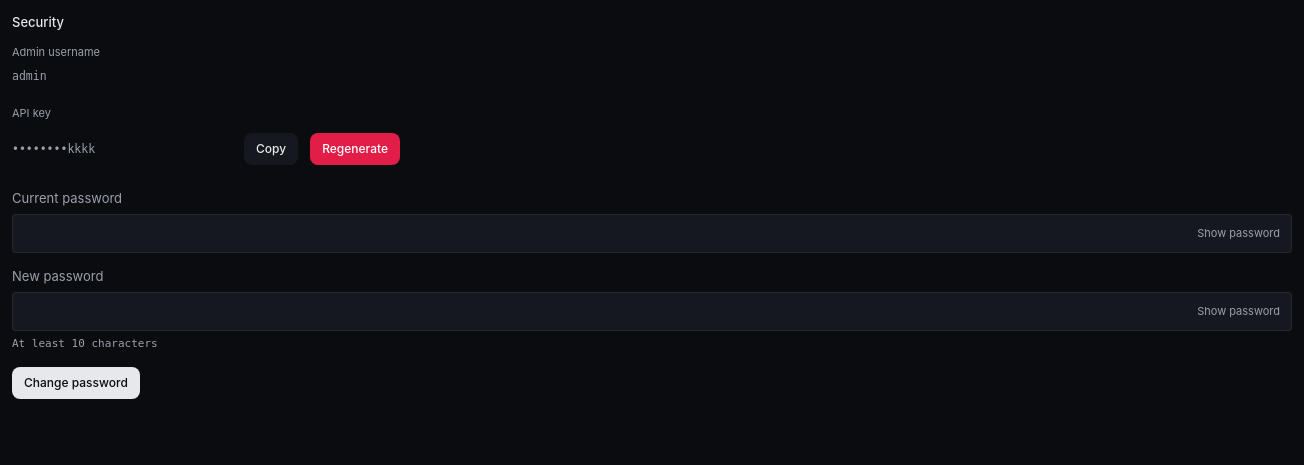
Test: SecuritySection（鉴权 A3 Task 13） › 改密表单：新旧密码提交 → POST change-password；400 错误行内展示
Check: the text "admin" is shown, box [12,69,47,83]
In the password field labelled "Current password": {"x": 652, "y": 234} [12,214,1292,253], type "oldpass1234"
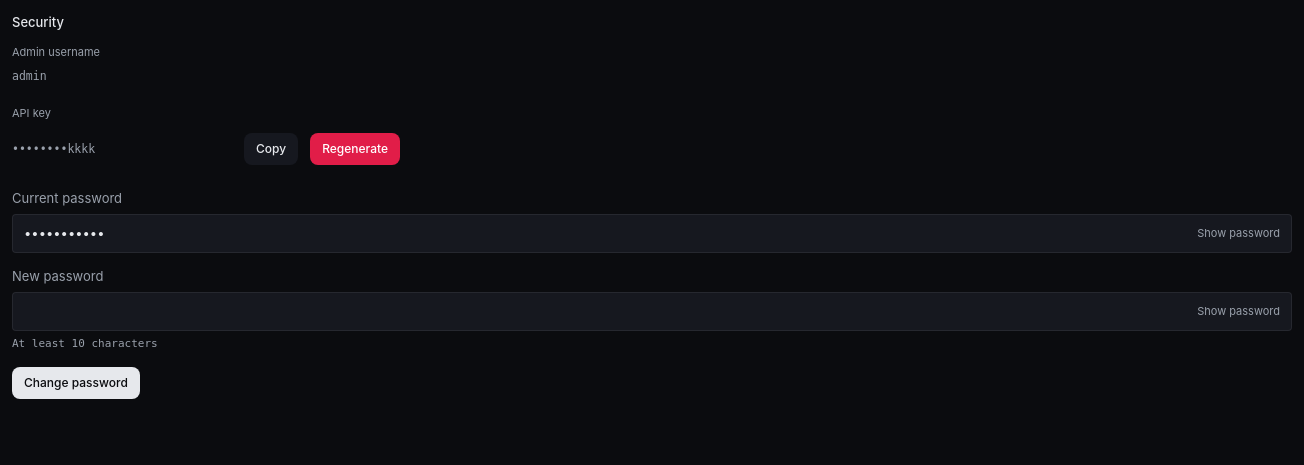
In the password field labelled "New password": {"x": 652, "y": 312} [12,292,1292,331], type "newpass8888"
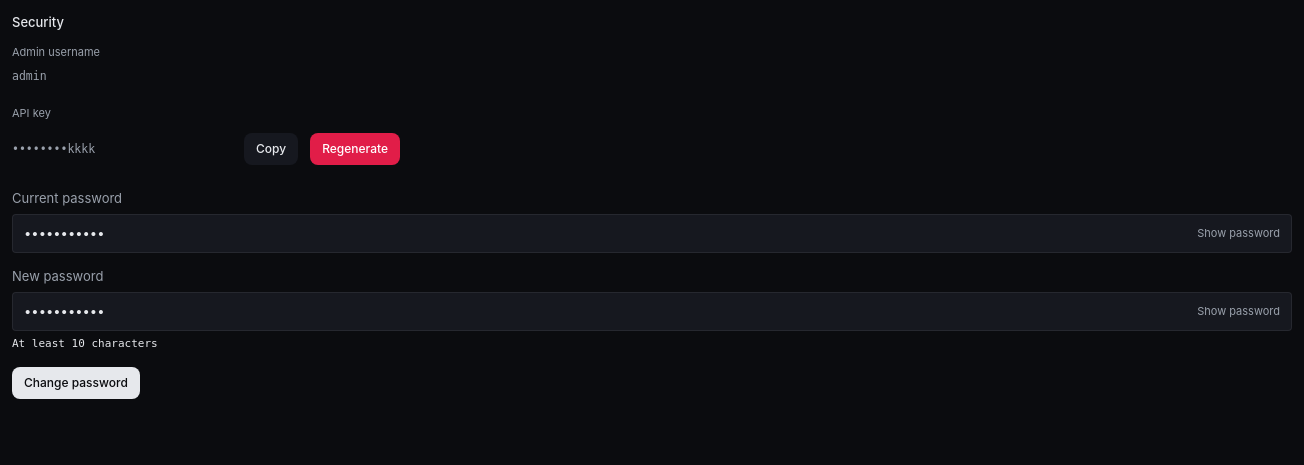
Click the button "Change password": {"x": 76, "y": 383} [12,367,140,399]
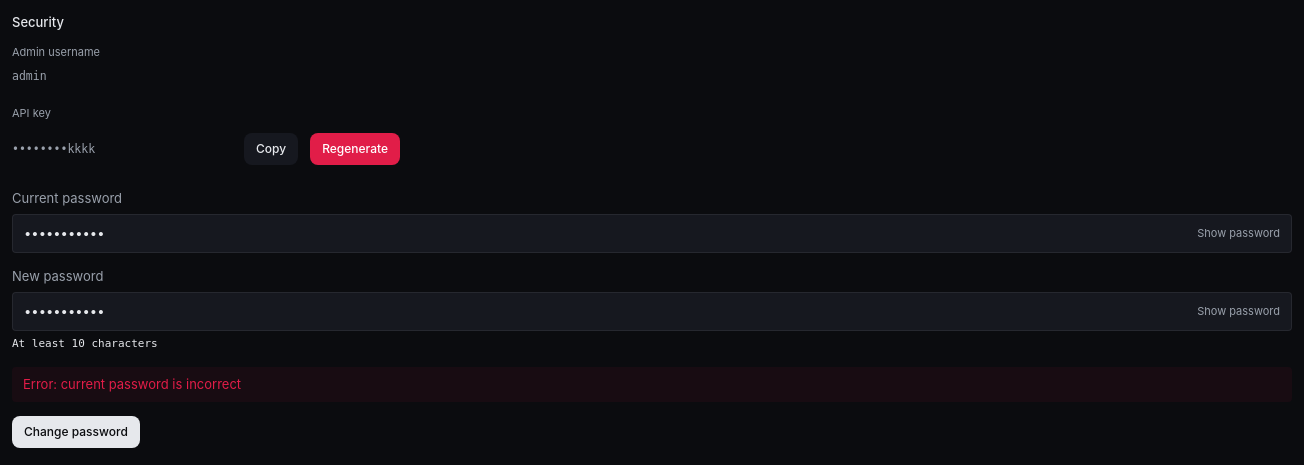
Check: the text "Error: current password is incorrect" is shown, box [12,367,1292,402]
